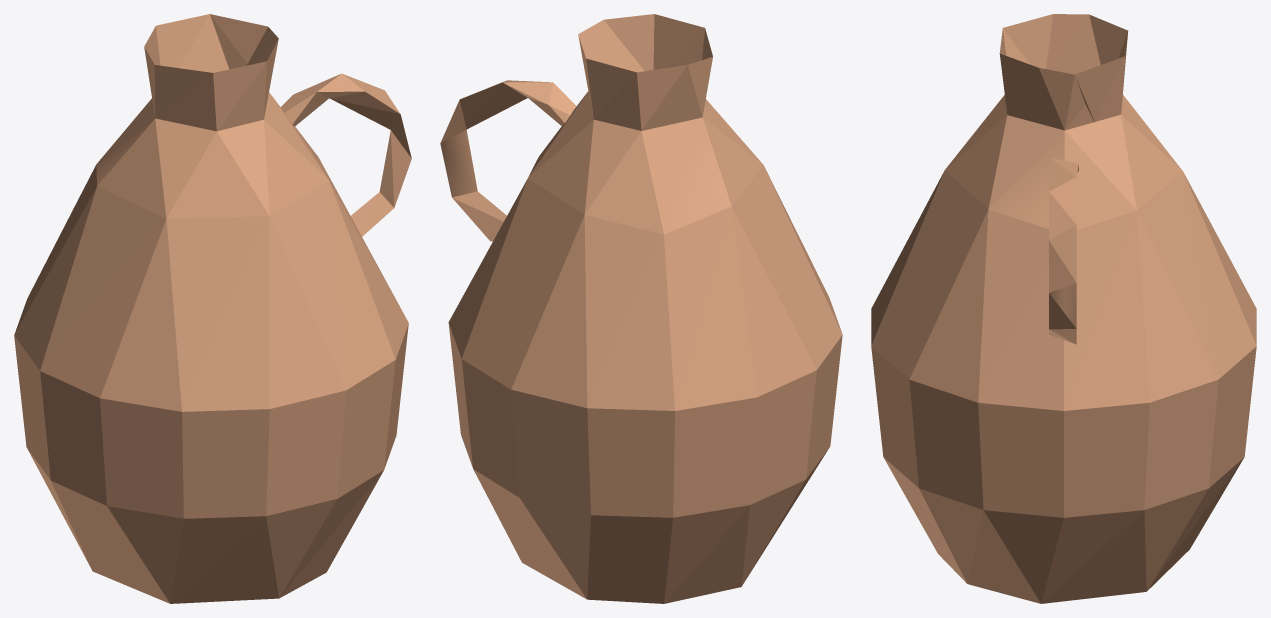
The model's file is copper_jug_kumgan_lod1.glb.
3 renders of one model, left to right at view 1: azimuth 30°, elevation 25°; view 2: azimuth 150°, elevation 25°; view 3: azimuth 270°, elevation 25°, orthographic.
Parts seen in each view (by area): view 1: m; view 2: m; view 3: m.
Boxes of the visible parts, bbox=[...] form: m: bbox=[14, 14, 411, 603]; m: bbox=[440, 14, 842, 603]; m: bbox=[871, 14, 1256, 603].
Size of the model in its own units: 0.346 by 0.4558 by 0.312.
